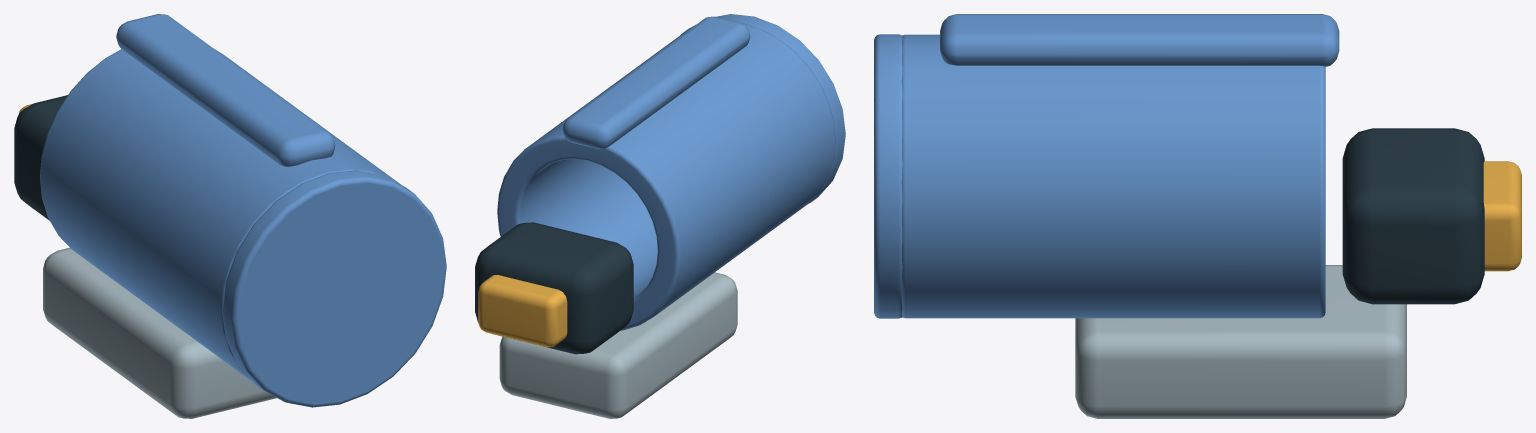
The model's file is part_pen_cap.glb.
3 renders of one model, left to right at view 1: azimuth 30°, elevation 25°; view 2: azimuth 150°, elevation 25°; view 3: azimuth 270°, elevation 25°, orthographic. The views are drawn at different scales.
Parts seen in each view (by area): view 1: Hollow cap shell, Cap closed end, Spring support, Pocket clip, Universal rubber mounting pad.005; view 2: Hollow cap shell, Spring support, Universal rubber mounting pad.005, Pocket clip, Snap-in brass tongue.005, Cap closed end; view 3: Hollow cap shell, Spring support, Universal rubber mounting pad.005, Pocket clip, Cap closed end, Snap-in brass tongue.005.
Boxes of the visible parts, bbox=[...] form: Hollow cap shell: bbox=[40, 49, 400, 380]; Cap closed end: bbox=[222, 170, 446, 407]; Spring support: bbox=[43, 247, 276, 418]; Pocket clip: bbox=[116, 14, 335, 166]; Universal rubber mounting pad.005: bbox=[14, 95, 67, 220]; Hollow cap shell: bbox=[497, 23, 835, 330]; Spring support: bbox=[499, 272, 737, 418]; Universal rubber mounting pad.005: bbox=[475, 222, 633, 354]; Pocket clip: bbox=[562, 16, 750, 149]; Snap-in brass tongue.005: bbox=[478, 275, 567, 347]; Cap closed end: bbox=[680, 14, 845, 203]; Hollow cap shell: bbox=[901, 34, 1325, 318]; Spring support: bbox=[1075, 265, 1406, 418]; Universal rubber mounting pad.005: bbox=[1342, 128, 1484, 304]; Pocket clip: bbox=[940, 14, 1339, 66]; Cap closed end: bbox=[874, 34, 902, 318]; Snap-in brass tongue.005: bbox=[1483, 161, 1521, 271].
Bounding box in the file's own units: 0.00844 × 0.0118 × 0.0191.
